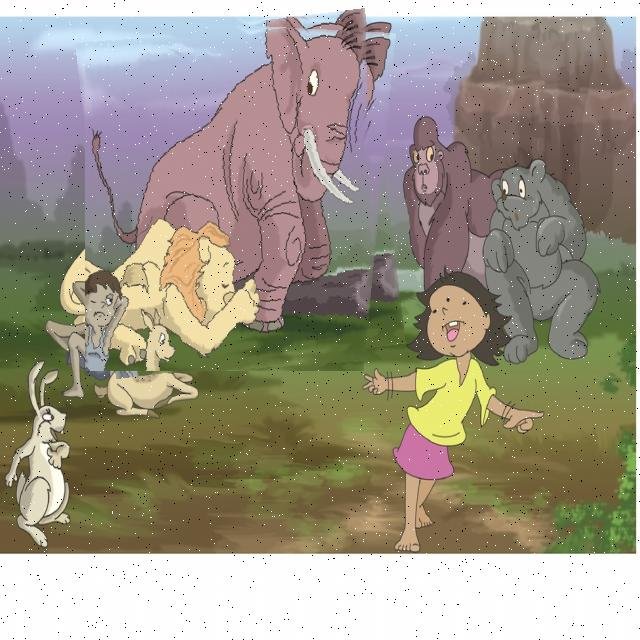elephant: (85, 17, 396, 371)
